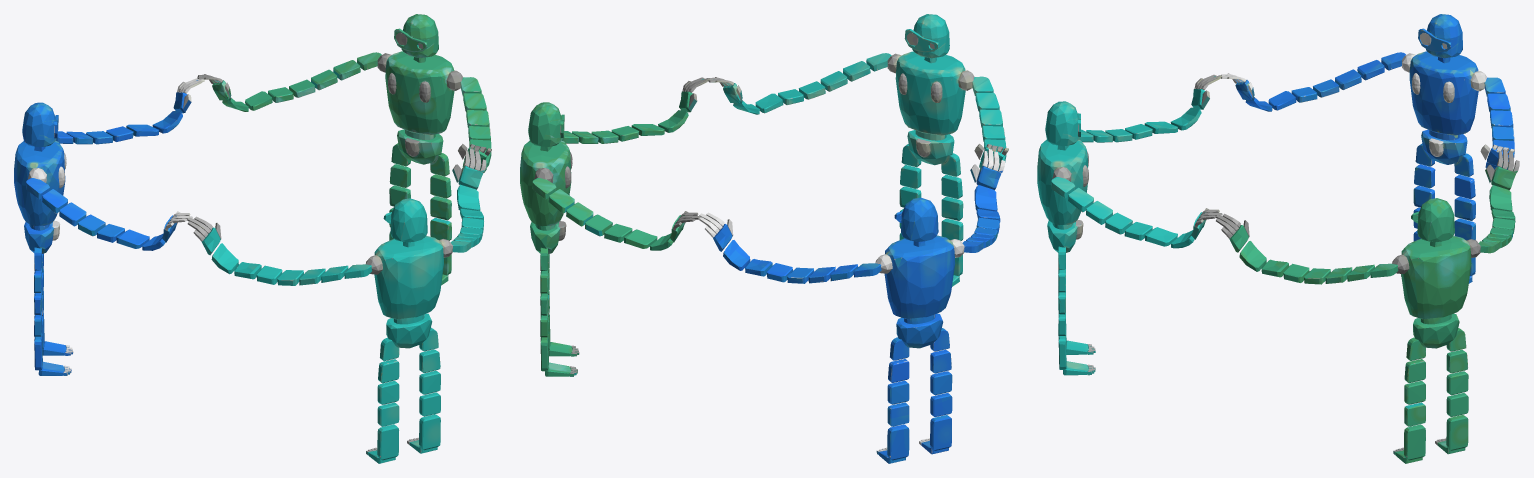
File: robots.fbx
3 renders of one model, left to right at view 1: azimuth 30°, elevation 25°; view 2: azimuth 150°, elevation 25°; view 3: azimuth 270°, elevation 25°, orthographic.
Parts seen in each view (by area): view 1: robot.001; view 2: robot.001; view 3: robot.001.
Boxes of the visible parts, bbox=[...] form: robot.001: bbox=[14, 14, 491, 463]; robot.001: bbox=[520, 14, 1008, 463]; robot.001: bbox=[1037, 14, 1519, 463].
Size of the model in its own units: 1894 by 1049 by 1775.
3 materials, 3 textured.
